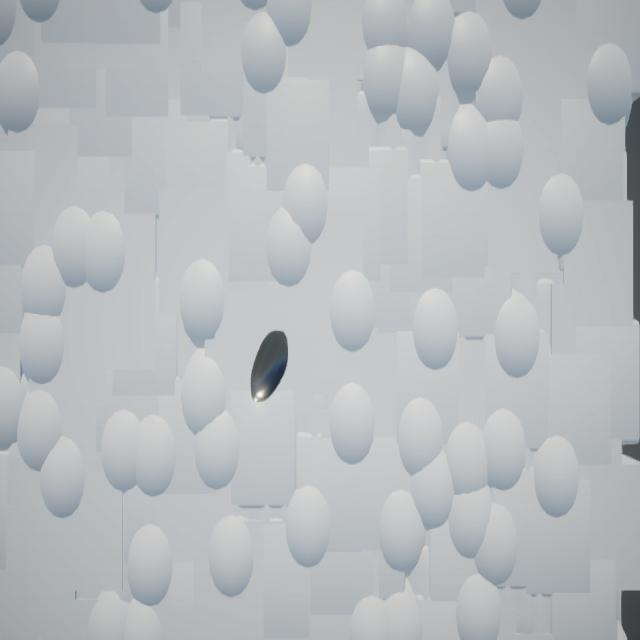top_spoon: (251, 332, 290, 403)
